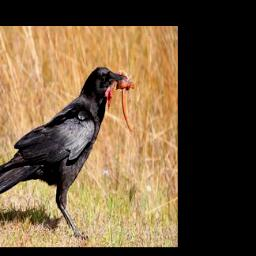Crow: (0, 61, 141, 239)
